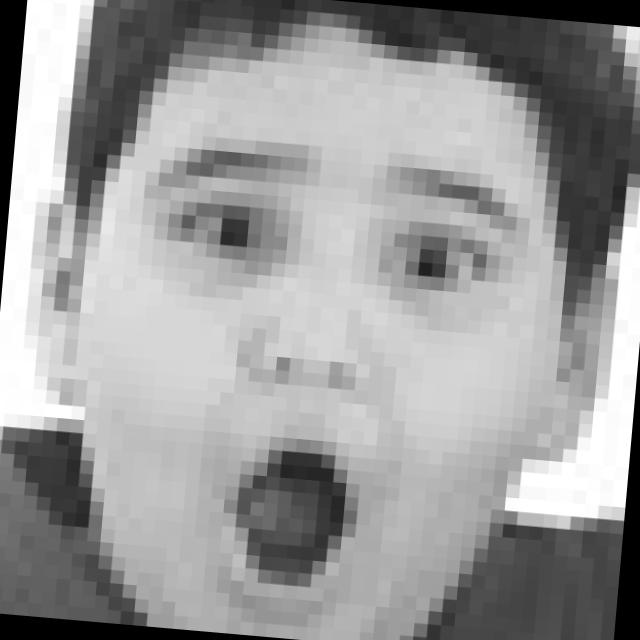surprise: (106, 127, 529, 619)
